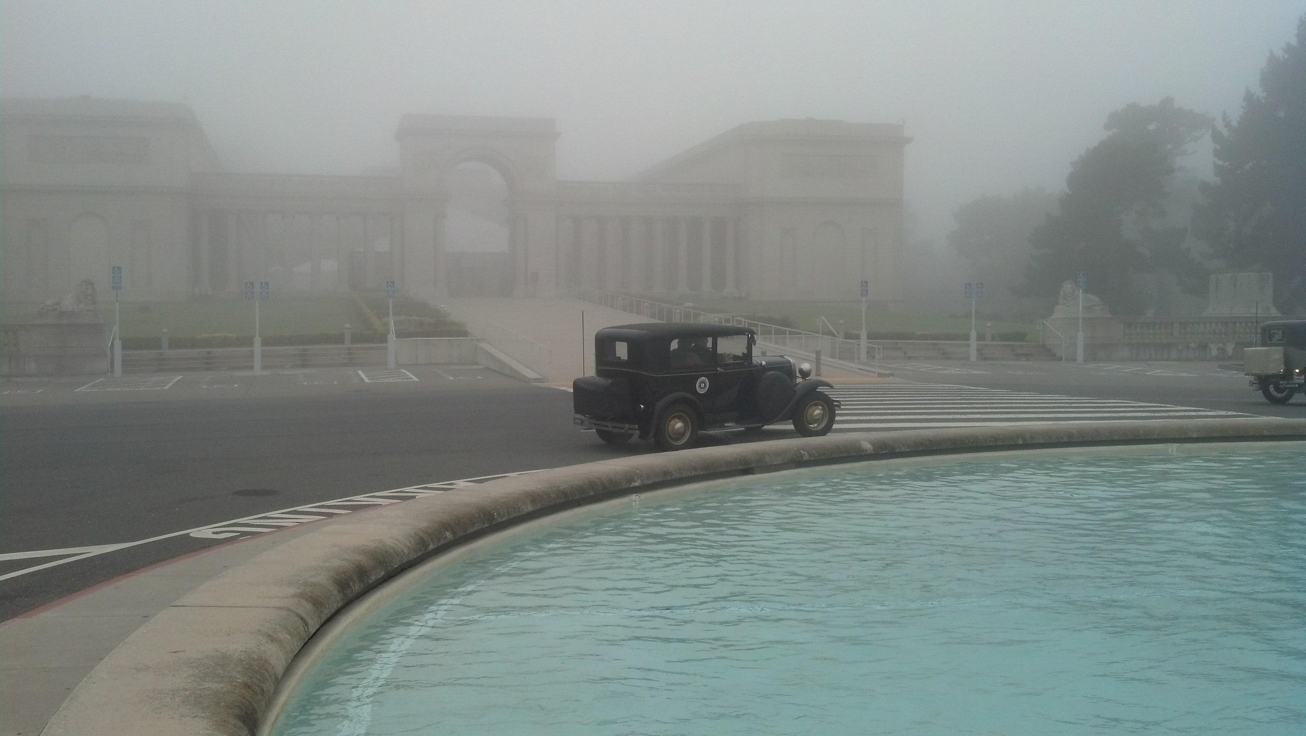car: (571, 308, 843, 452), (1241, 299, 1306, 408)
